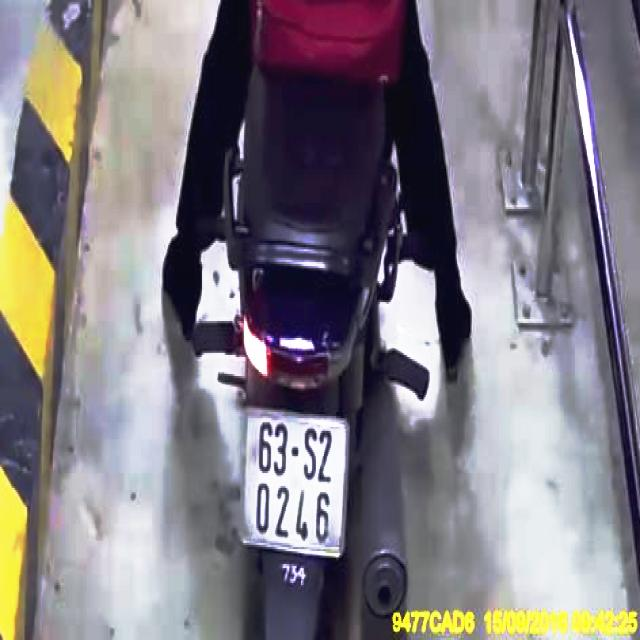license_plate: (244, 413, 345, 557)
